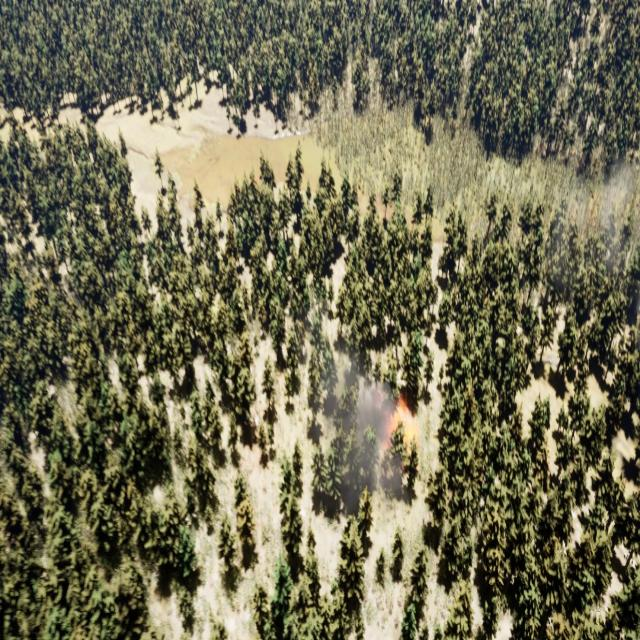fire: (380, 395, 424, 455)
smoke: (313, 351, 397, 490)
